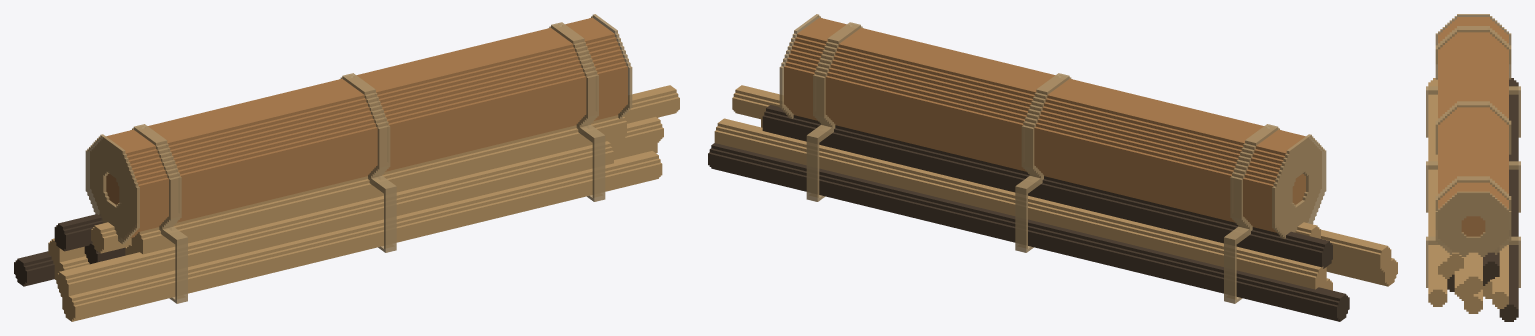
Rendered from shelter_kit.glb.
The picture shows the model from 3 angles, left to right: view 1: azimuth 30°, elevation 25°; view 2: azimuth 150°, elevation 25°; view 3: azimuth 270°, elevation 25°; orthographic projection. The views are drawn at different scales.
Parts seen in each view (by area): view 1: shelter_kit:compound; view 2: shelter_kit:compound; view 3: shelter_kit:compound.
Boxes of the visible parts, x1,y1,x2,y2 form: shelter_kit:compound: (14,14,679,321); shelter_kit:compound: (708,14,1397,321); shelter_kit:compound: (1426,14,1520,321).
Bounding box in the file's own units: 0.904 × 0.2 × 0.16.
